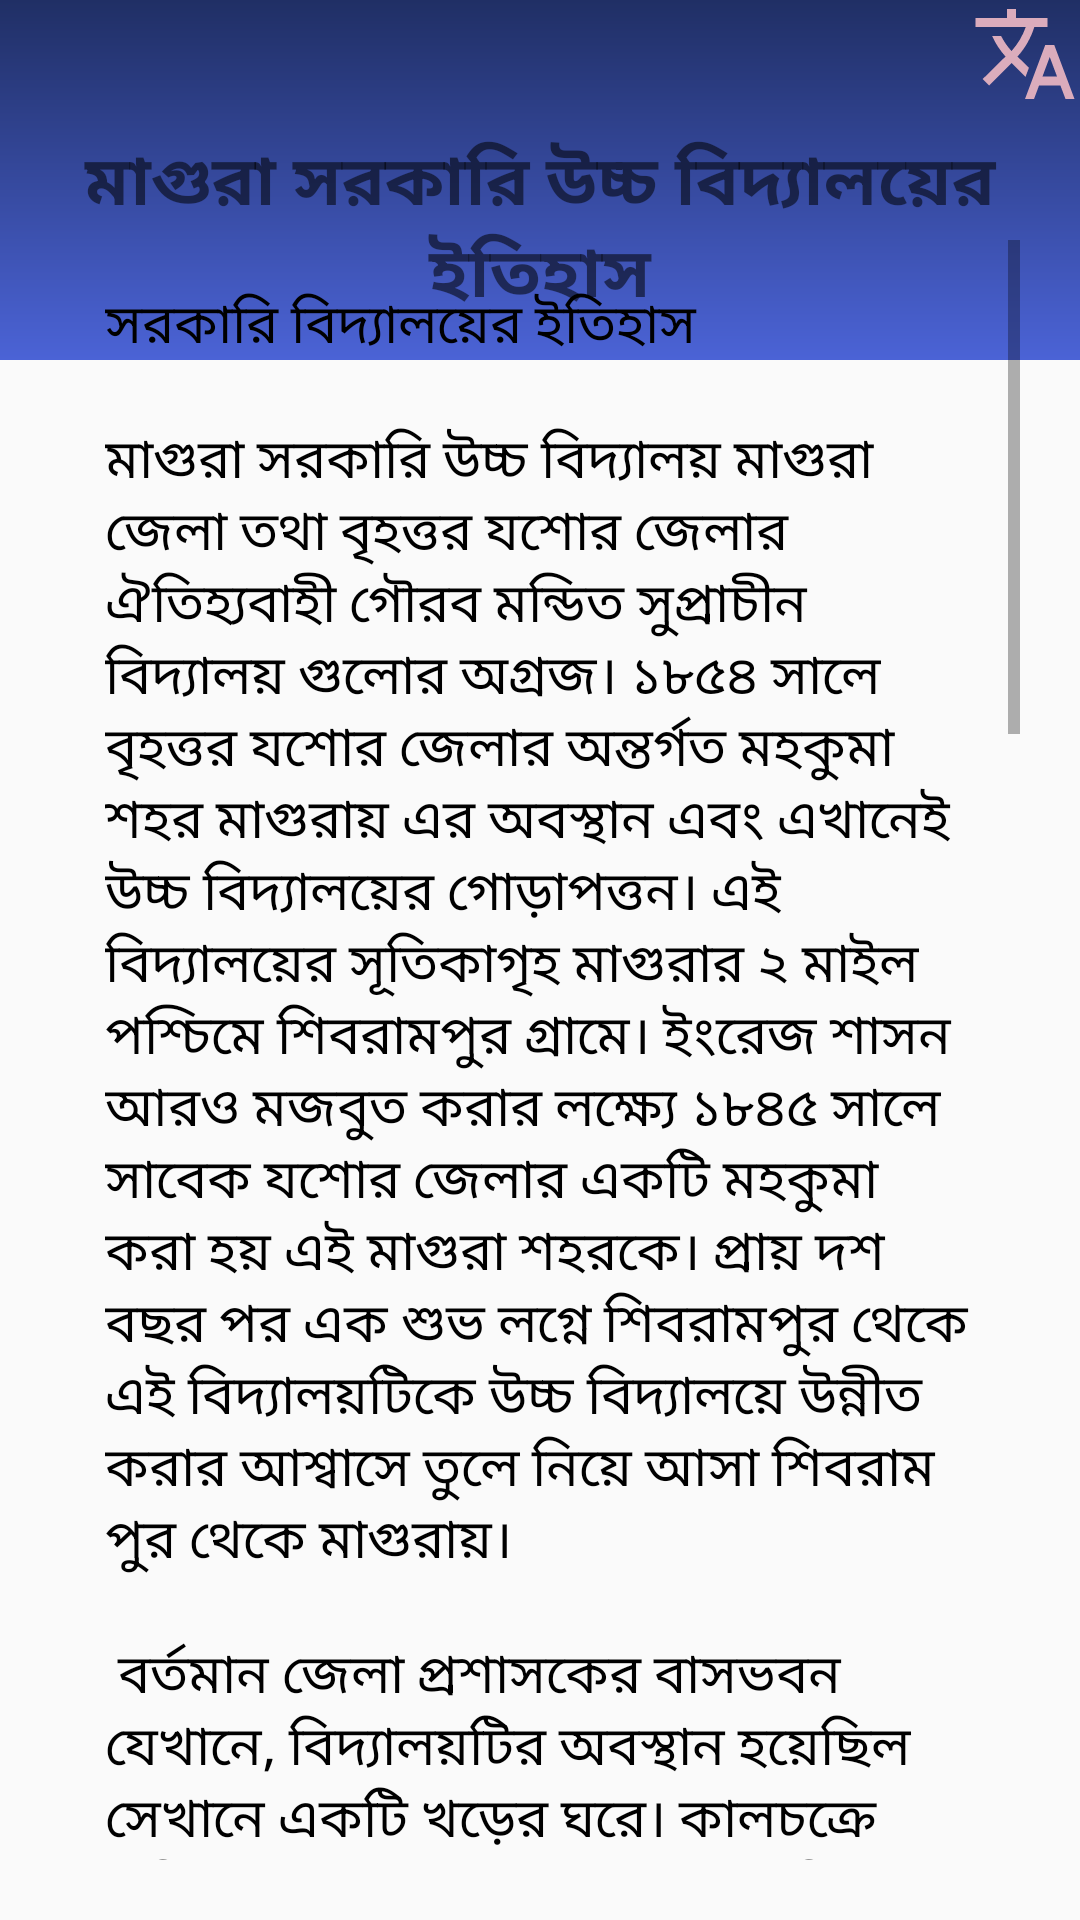

Screen size 1080x1920. Icon name, then its center in pixels as [x,y]:
translate: [1024,49]
